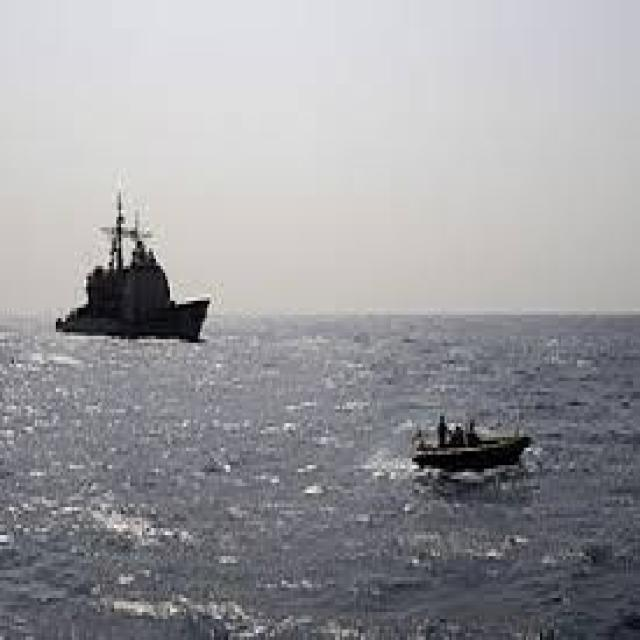navalvessels: (48, 199, 214, 342)
